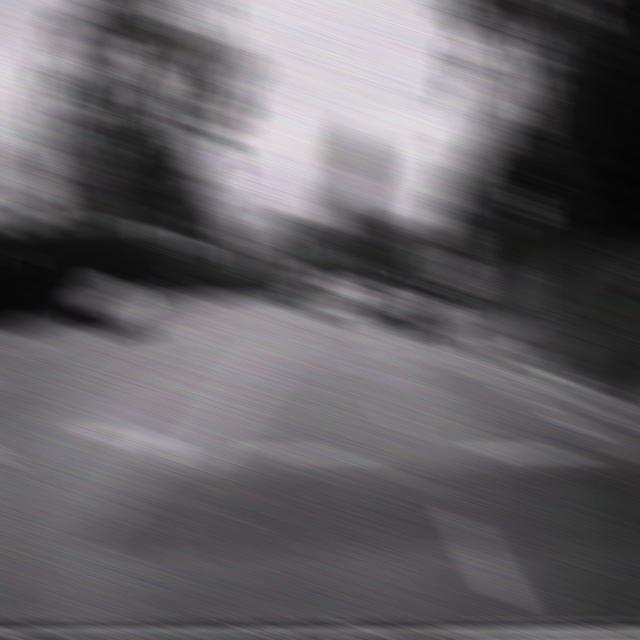speedLimit35: (443, 215, 474, 252)
